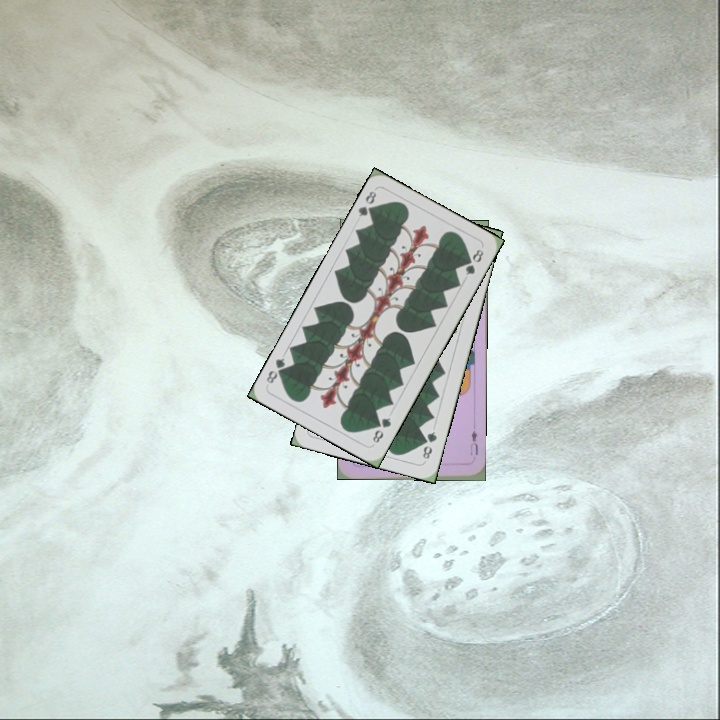EU: (466, 426, 481, 458)
G8: (368, 413, 394, 446), (354, 187, 379, 219), (418, 427, 440, 462)
